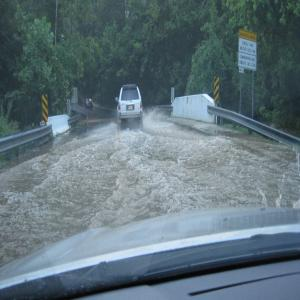Vehicle-registration-plate: (128, 105, 135, 110)
